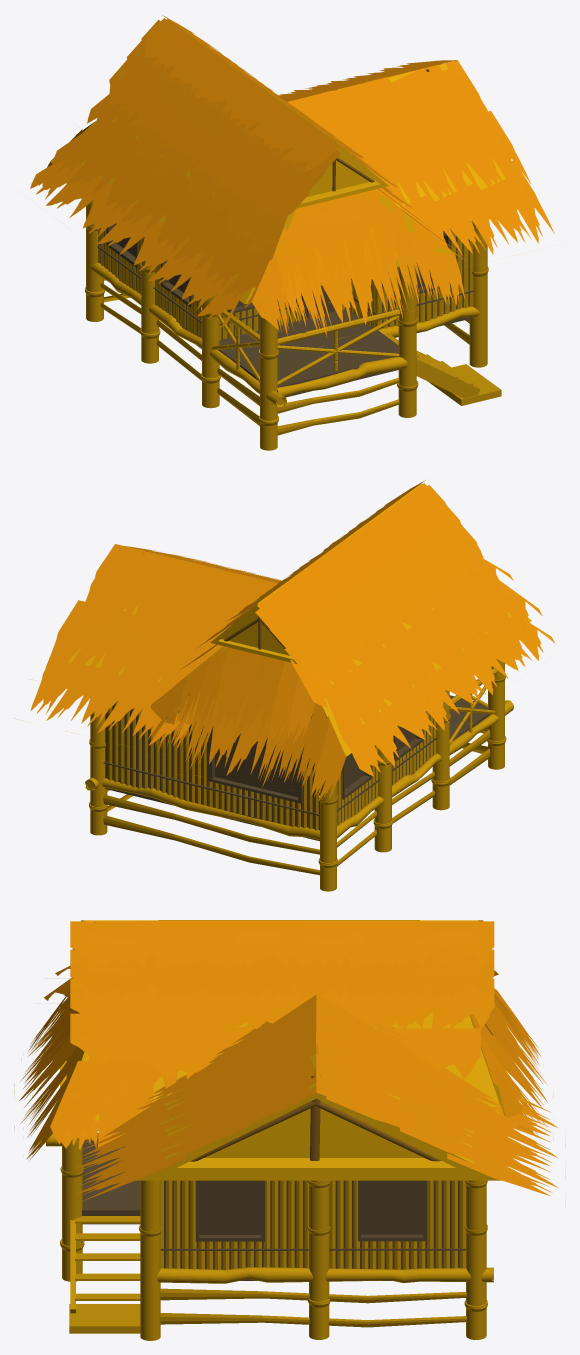
Rendered from BahayKubo.glb.
3 views of the same model, one above another, from view 1: azimuth 30°, elevation 25°; view 2: azimuth 150°, elevation 25°; view 3: azimuth 270°, elevation 25° (orthographic). The views are drawn at different scales.
Visible parts, largest first — view 1: Kubo.006; view 2: Kubo.006; view 3: Kubo.006.
Boxes of the visible parts, x1,y1,x2,y2 form: Kubo.006: [30, 15, 554, 450]; Kubo.006: [14, 480, 555, 891]; Kubo.006: [14, 920, 565, 1340].
Bounding box in the file's own units: 72.78 × 55.32 × 84.73.
Materials: 5 (1 with a texture image).
